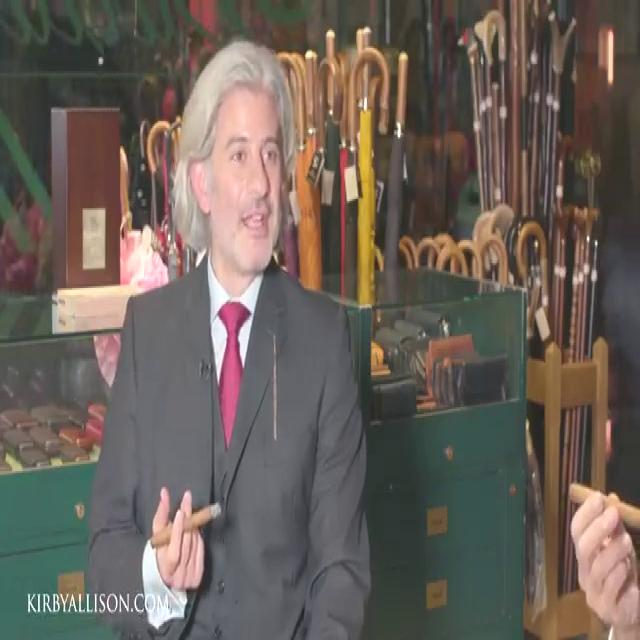Smooking: (145, 497, 243, 558)
